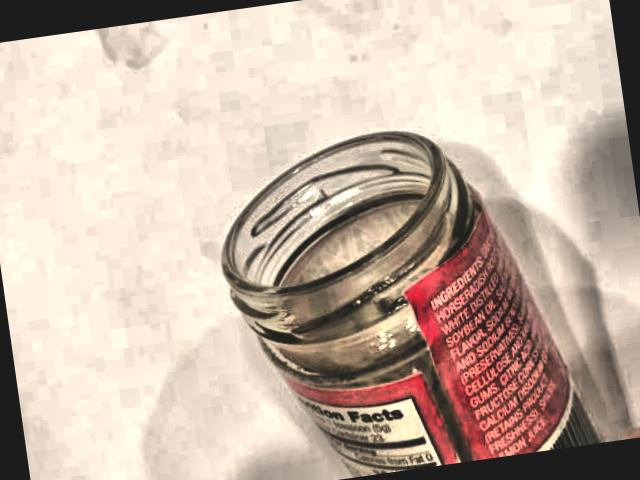Almennt: (209, 92, 605, 480)
